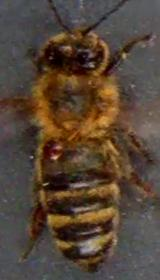varroa_mite: (36, 128, 74, 168)
